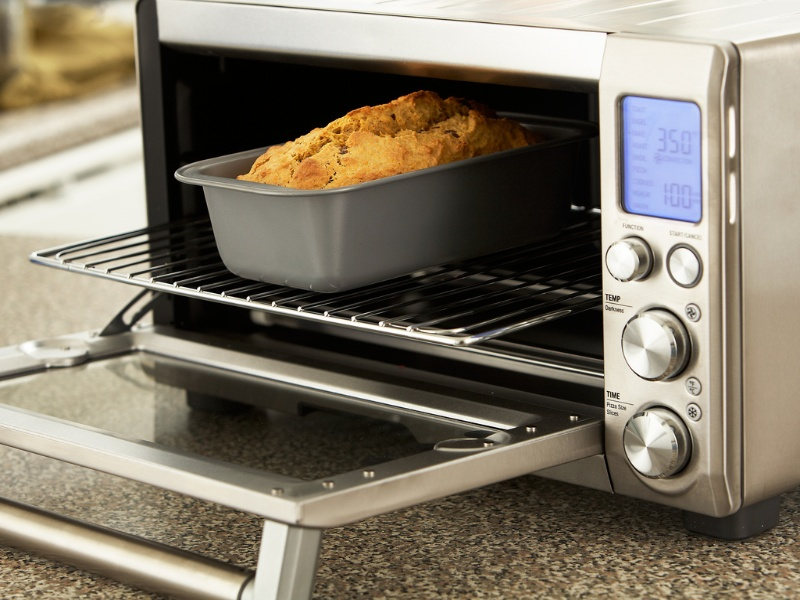oven: (34, 3, 799, 596)
